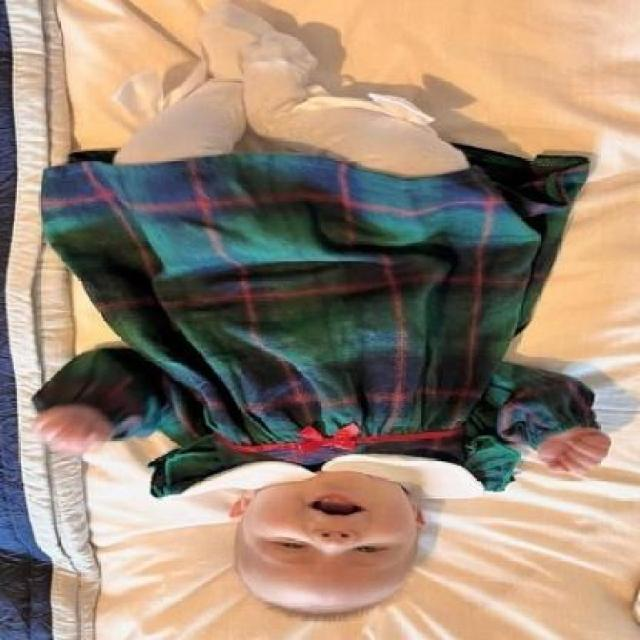baby: (29, 9, 608, 625)
